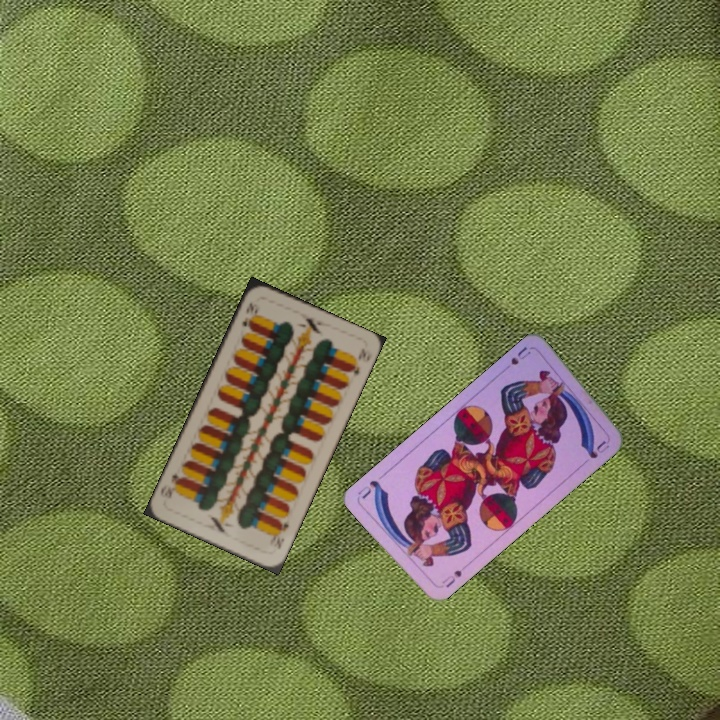E10: (270, 516, 292, 552), (238, 299, 261, 331)
SU: (506, 342, 534, 370), (434, 566, 464, 591)
